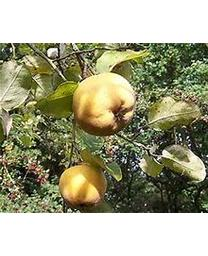apple: (74, 72, 137, 136), (58, 163, 107, 208)
